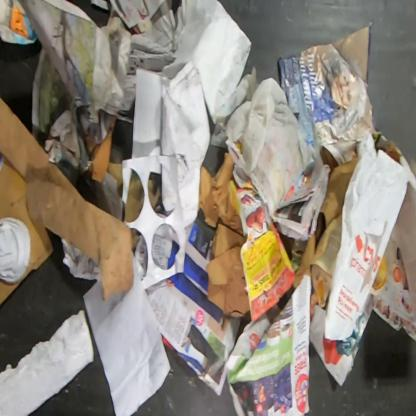cardboard: (0, 94, 134, 303), (0, 162, 55, 307)
rigid_plastic: (0, 214, 31, 284)
